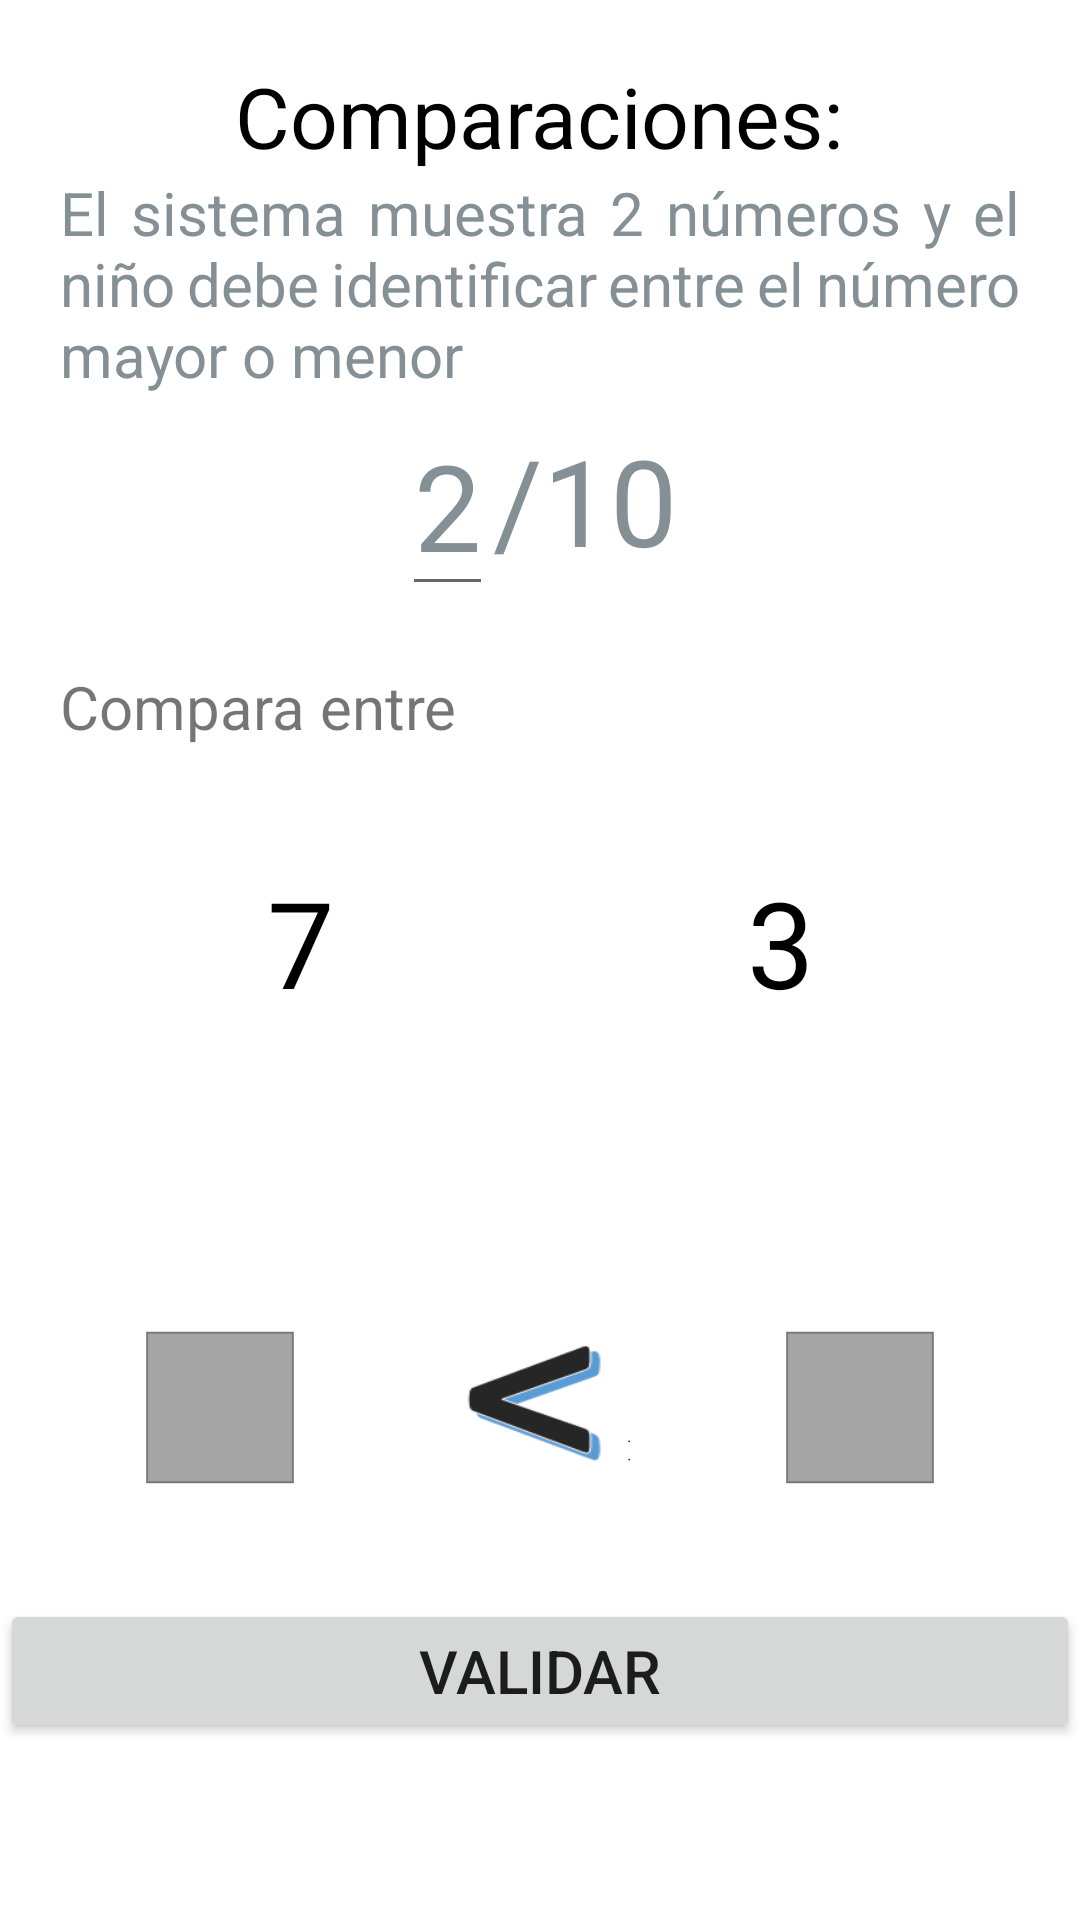

Icons on this 1080×1920 Android screen, each with its box as Rect(x1, y1, x2, y2):
comparador: Rect(468, 1346, 630, 1461)
